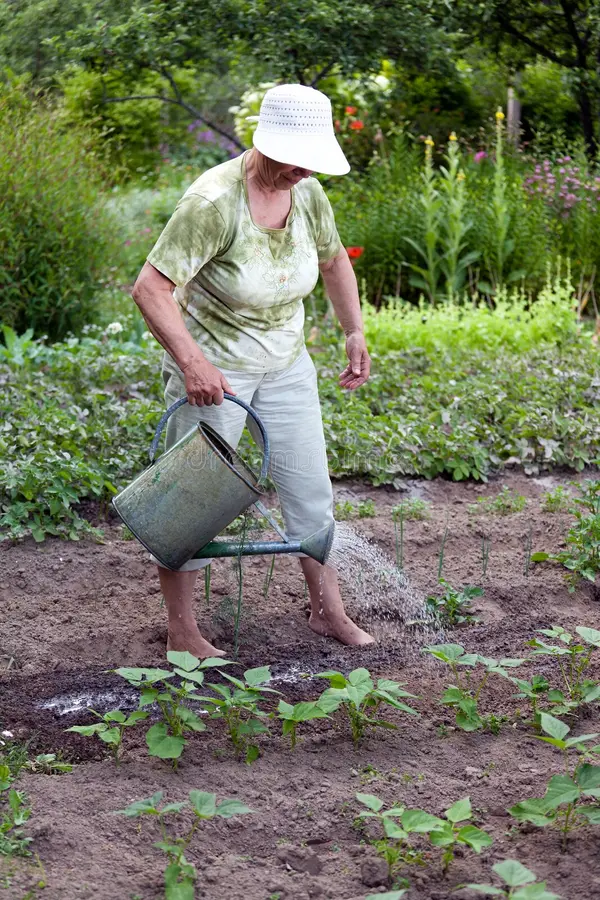person: (117, 78, 405, 699)
